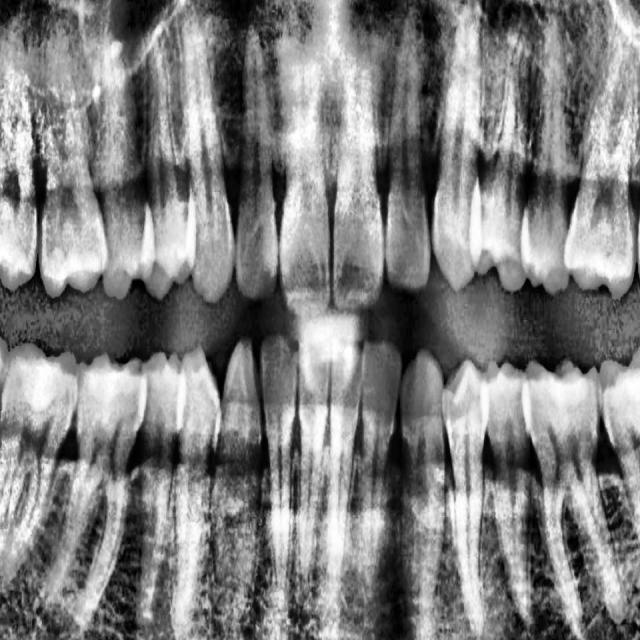Impacted Tooth: (0, 252, 19, 529)
